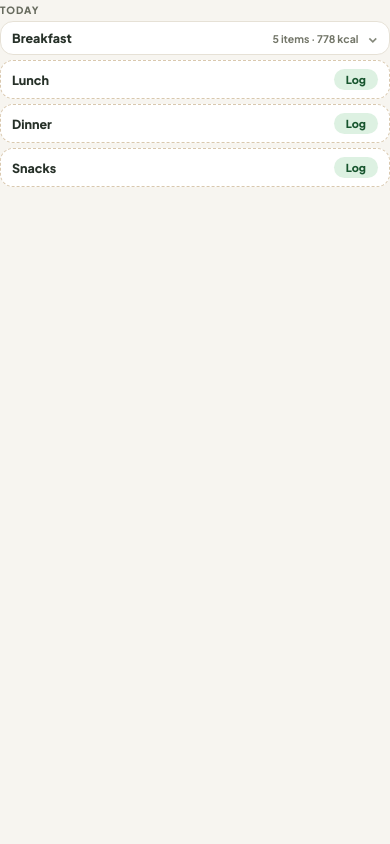
Test: FoodDiary parts rendering › collapses a bracket to one row and expands it to correction-addressable rows
Click the button with aria-label "Breakfast —".
click(42, 38)  # box [12,30,378,46]
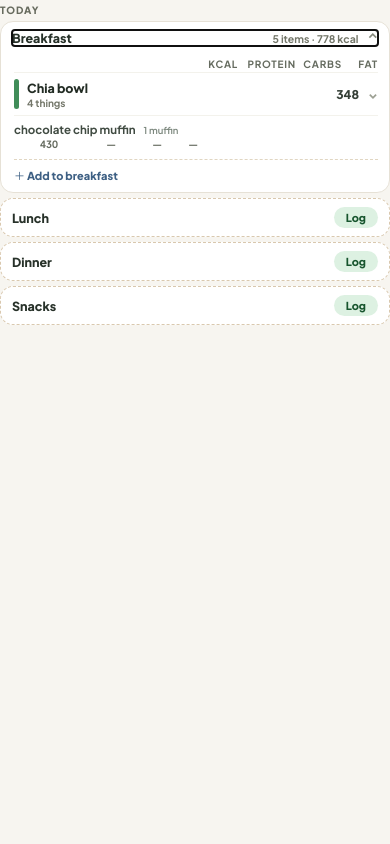
Result: the text "Chia bowl" is shown at [27,80,88,96]
Result: the text "4 things" is shown at [27,96,66,108]
Result: the text "348" is shown at [336,86,359,102]
Click the button with aria-label "Chia bowl — 4 things".
click(58, 88)  # box [27,79,378,109]
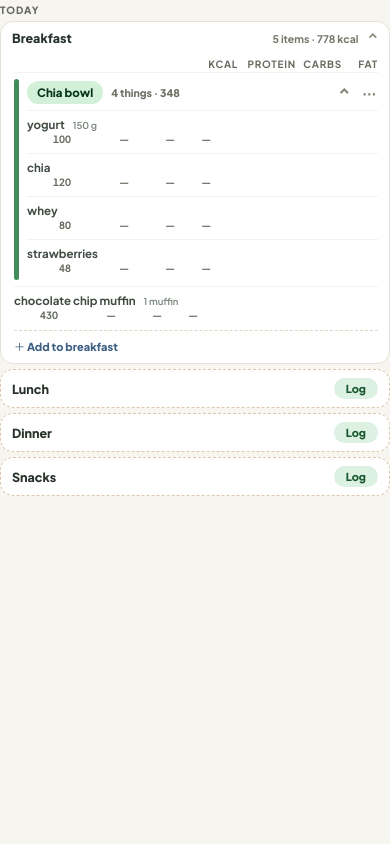
# A member row still opens MealItemSheet — the logId+index address survived the bracket.
Click the button with aria-label "yogurt — open".
click(202, 130)  # box [27,110,378,151]
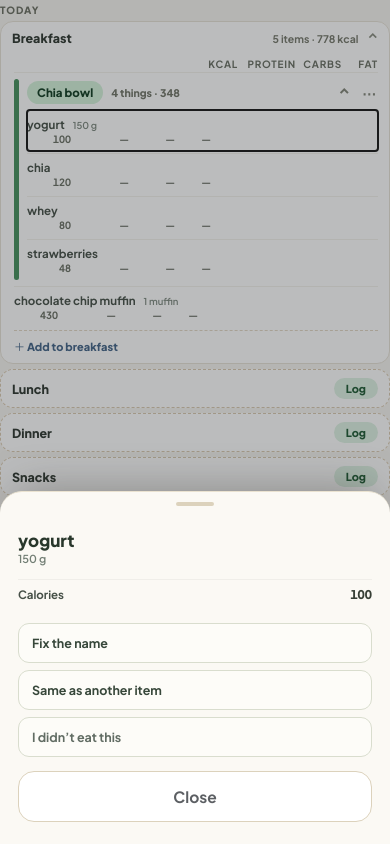
Result: the dialog "yogurt" is shown at [0,491,389,843]
